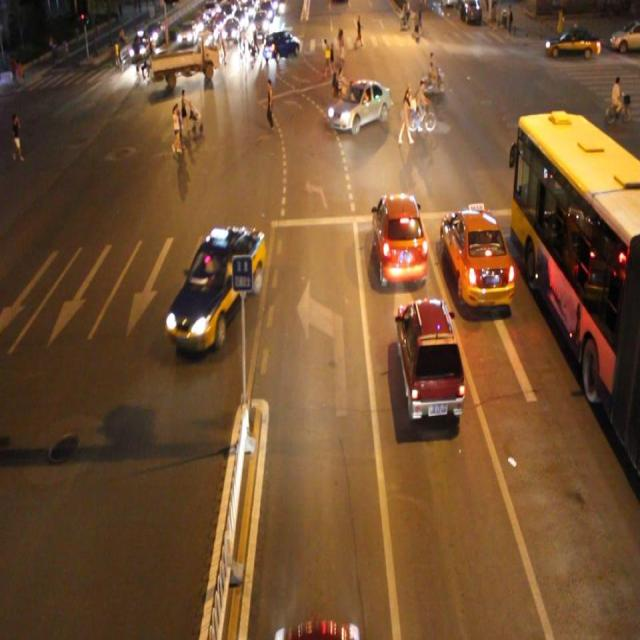bus: (150, 32, 221, 82)
car: (165, 224, 264, 351), (395, 297, 466, 422), (440, 204, 518, 308), (373, 192, 429, 288), (327, 78, 391, 133), (263, 29, 300, 60)
van: (511, 116, 640, 468)
